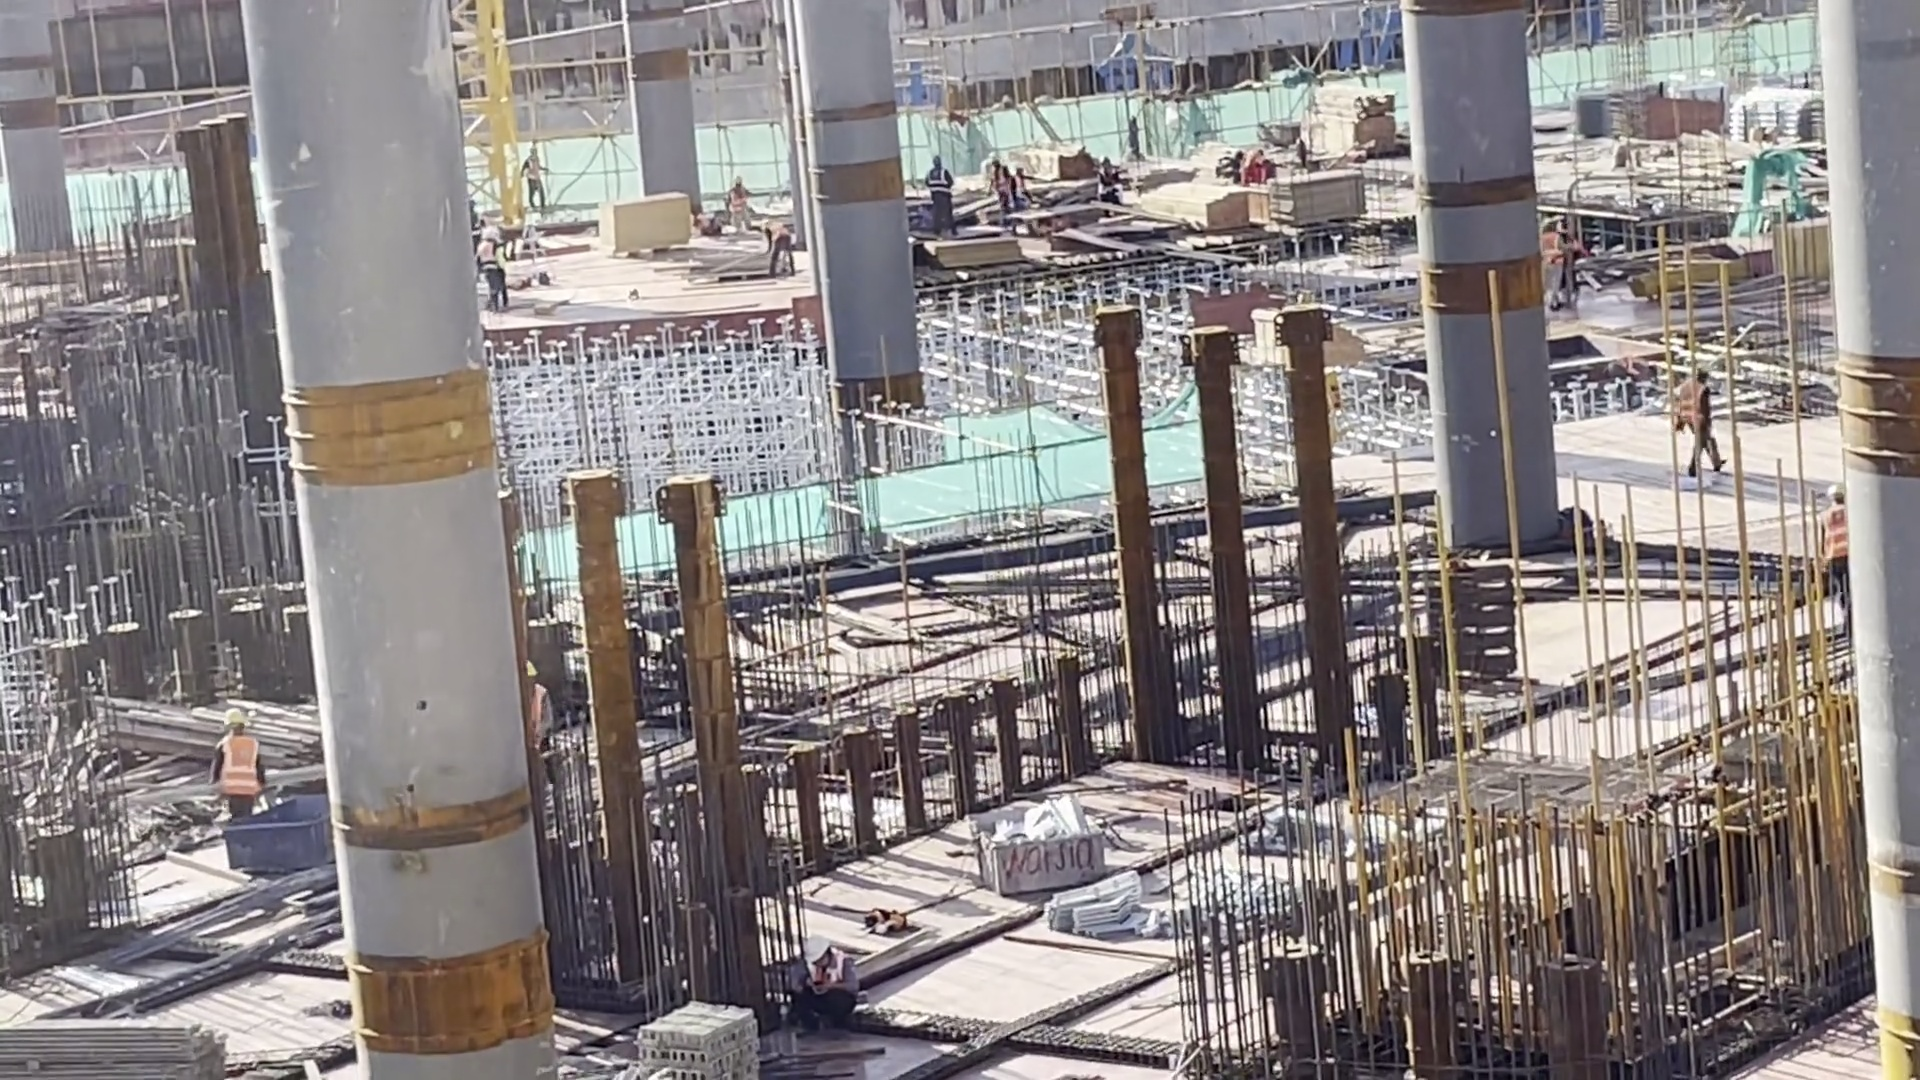helmet: (792, 935, 833, 959), (215, 708, 253, 729), (1692, 353, 1716, 368), (478, 224, 501, 237)
hopper: (964, 789, 1123, 901), (226, 791, 354, 882)
person: (767, 933, 872, 1026), (201, 701, 271, 824), (1670, 352, 1734, 485), (498, 660, 564, 768), (460, 208, 519, 327), (1811, 486, 1856, 606), (1205, 146, 1307, 194), (509, 131, 556, 213), (982, 148, 1023, 219), (764, 212, 799, 280), (725, 154, 754, 232), (929, 160, 955, 235)
vest: (216, 735, 264, 787), (1813, 512, 1850, 570), (1686, 383, 1712, 424)
wood: (3, 1004, 226, 1079)
